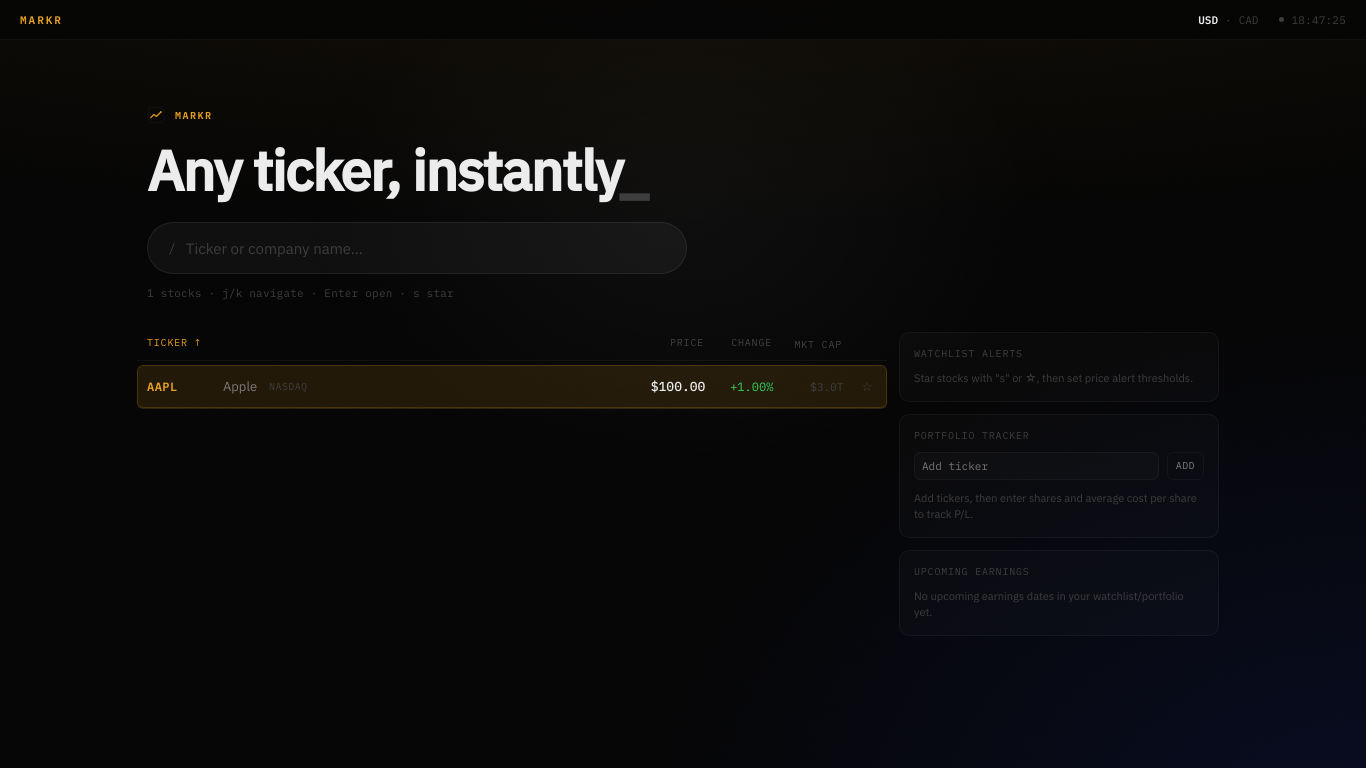
Test: one failing section does not blank the others
Click the text "AAPL" at point(162, 387), box [147, 380, 178, 394]
(page scrolled)
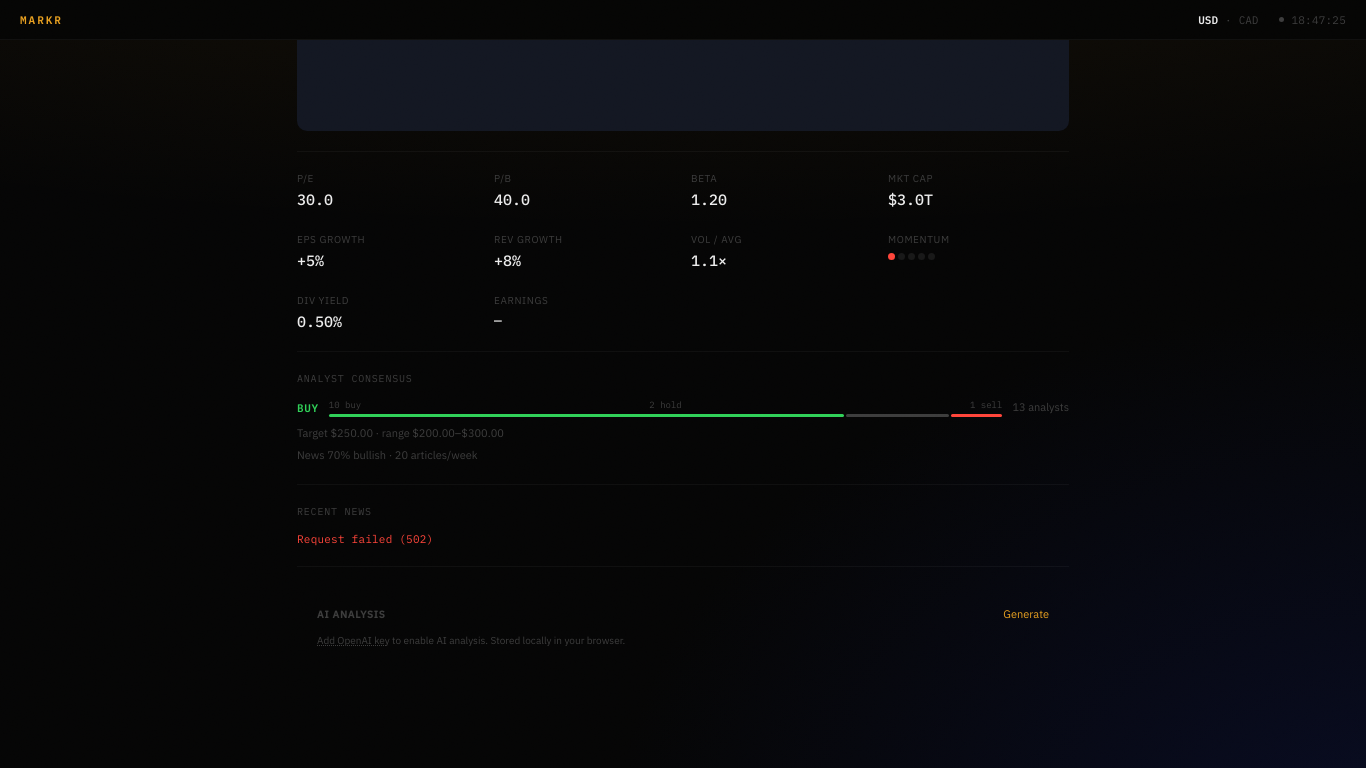
Check: the text "Request failed (502)" is shown, box [297, 532, 433, 546]
Check: the text "Analyst consensus" is shown, box [297, 372, 413, 385]
Check: the text "13 analysts" is shown, box [1012, 399, 1069, 417]
